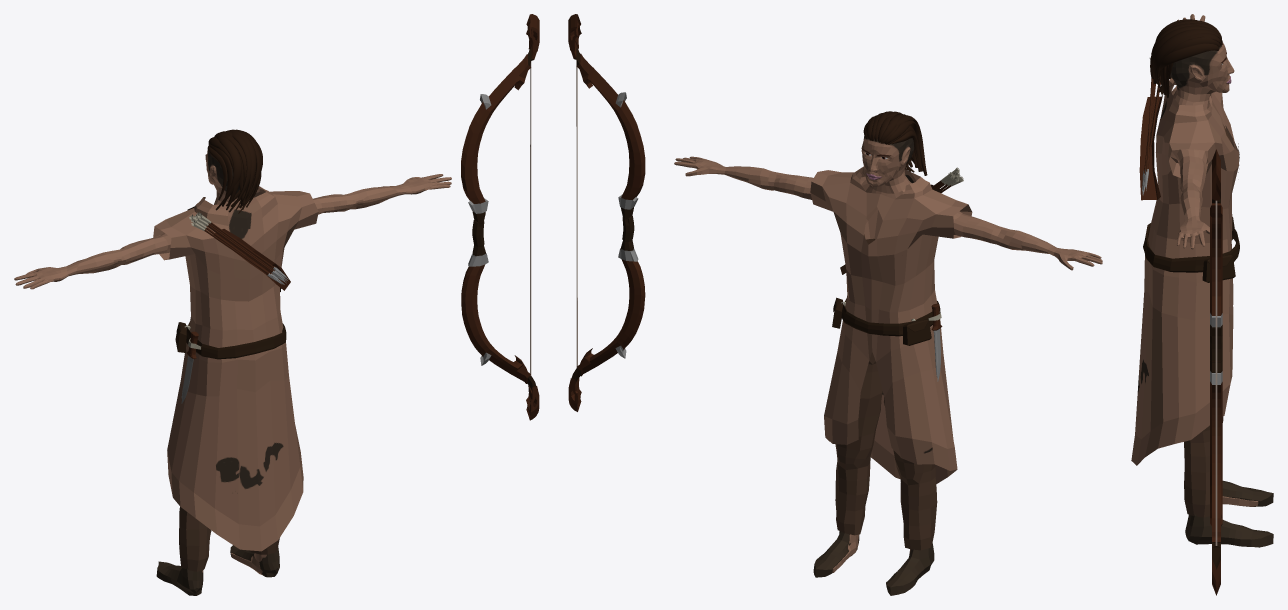
File: rangerhuman.fbx
The picture shows the model from 3 angles, left to right: view 1: azimuth 30°, elevation 25°; view 2: azimuth 150°, elevation 25°; view 3: azimuth 270°, elevation 25°; orthographic projection. The views are drawn at different scales.
Visible parts, largest first — view 1: cloak, bow, BODY, pants, boots, belt; view 2: cloak, BODY, pants, bow, boots, belt; view 3: cloak, BODY, bow, boots, pants, belt, quiver, NurbsPath.009, NurbsPath.012, NurbsPath.008, NurbsPath.010, arrow.006 (+2 smaller).
Boxes of the visible parts, x1,y1,x2,y2 form: cloak: (153,186,318,551); bow: (461,14,539,420); BODY: (14,149,451,575); pants: (179,507,279,571); boots: (156,545,279,595); belt: (175,322,286,359); cloak: (810,166,972,483); BODY: (674,136,1102,572); pants: (835,352,937,550); bow: (568,14,645,411); boots: (813,531,934,595); belt: (832,297,941,345); cloak: (1131,78,1238,465); BODY: (1170,14,1258,506); bow: (1210,149,1222,595); boots: (1185,480,1273,547); pants: (1184,416,1223,517); belt: (1143,217,1239,282); quiver: (1139,85,1239,200); NurbsPath.009: (1152,29,1222,83); NurbsPath.012: (1158,43,1219,76); NurbsPath.008: (1150,25,1220,78); NurbsPath.010: (1156,33,1221,87); arrow.006: (1145,57,1153,190).
Size of the model in its own units: 214 by 188 by 44.87.
19 materials, 2 textured.
